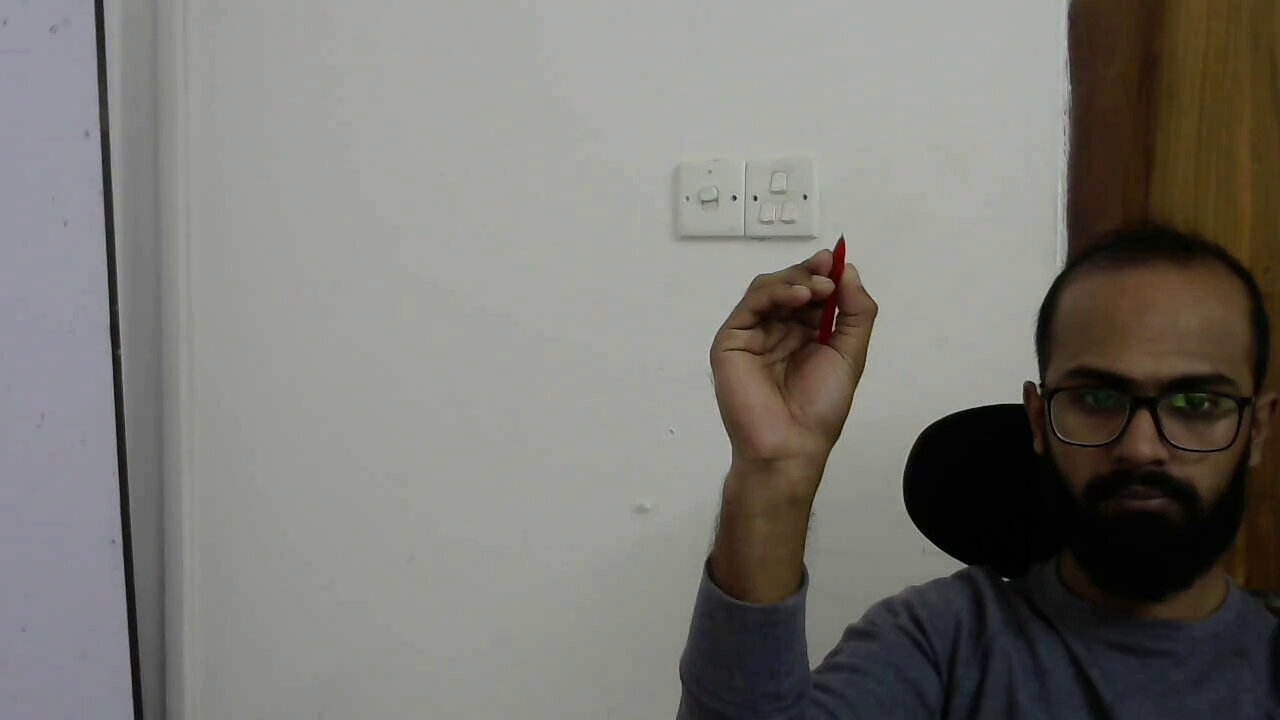pointer: (713, 233, 876, 381)
